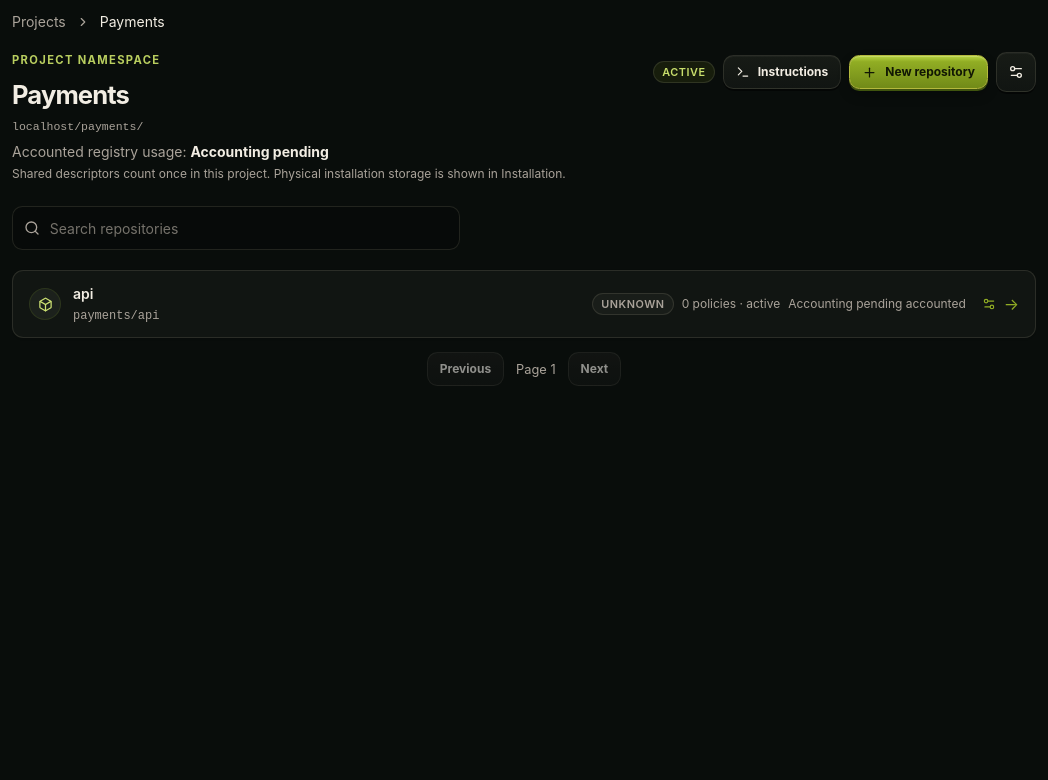
ProjectPage membership management › shows a no-matches empty state when a repository search finds nothing
The width and height of the screenshot is (1048, 780).
Expected: the text "api" is shown, 73,285 -> 94,302
Type "nothing-like-this" into the search field labelled "Search repositories" at (236, 228), box 12,206 -> 460,250
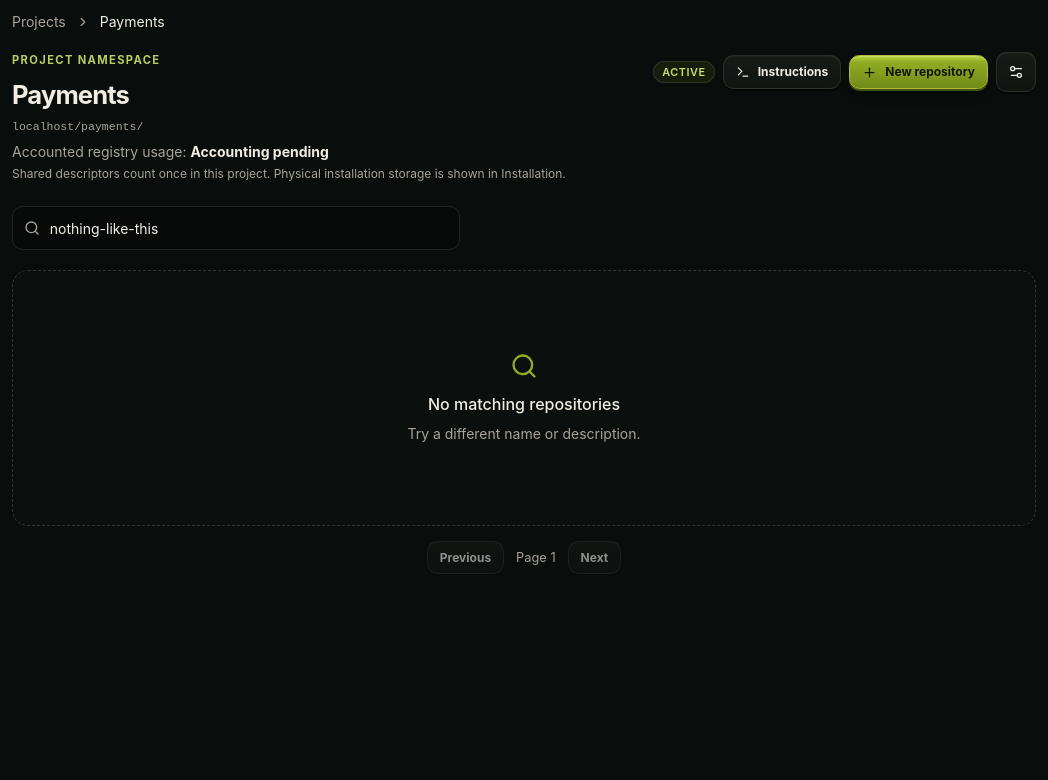
Expected: the text "No matching repositories" is shown, 428,394 -> 620,414
